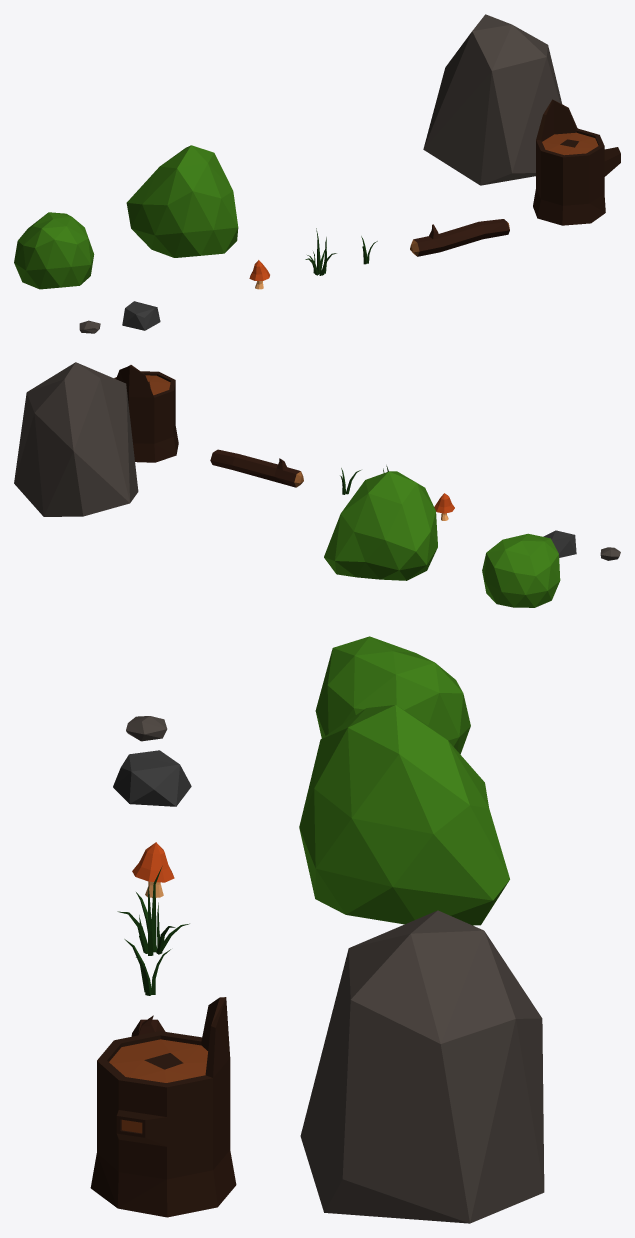
The model's file is NatureFreePack1.obj.
The picture shows the model from 3 angles, top to bottom: view 1: azimuth 30°, elevation 25°; view 2: azimuth 150°, elevation 25°; view 3: azimuth 270°, elevation 25°; orthographic projection. The views are drawn at different scales.
Visible parts, largest first — view 1: NaturePack Rock4, NaturePack Bush1, NaturePack Stump1, NaturePack Bush2, NaturePack Branch, NaturePack Rock3; view 2: NaturePack Rock4, NaturePack Bush1, NaturePack Bush2, NaturePack Stump1, NaturePack Branch, NaturePack Rock3; view 3: NaturePack Rock4, NaturePack Bush1, NaturePack Stump1, NaturePack Bush2, NaturePack Rock3, NaturePack Grass1, NaturePack Mushroom2, NaturePack Rock2.
Part boxes in pixels (x1,y1,x2,y2): NaturePack Rock4: (423, 14, 561, 185); NaturePack Bush1: (126, 145, 238, 257); NaturePack Stump1: (533, 99, 620, 225); NaturePack Bush2: (14, 212, 94, 289); NaturePack Branch: (410, 219, 509, 256); NaturePack Rock3: (122, 301, 160, 330); NaturePack Rock4: (14, 362, 138, 516); NaturePack Bush1: (324, 471, 437, 580); NaturePack Bush2: (482, 533, 560, 607); NaturePack Stump1: (114, 365, 178, 462); NaturePack Branch: (210, 449, 303, 487); NaturePack Rock3: (543, 530, 576, 557); NaturePack Rock4: (300, 910, 544, 1223); NaturePack Bush1: (299, 705, 509, 925); NaturePack Stump1: (90, 997, 236, 1217); NaturePack Bush2: (315, 636, 470, 754); NaturePack Rock3: (113, 750, 191, 806); NaturePack Grass1: (117, 866, 189, 955); NaturePack Mushroom2: (132, 842, 174, 897); NaturePack Rock2: (126, 716, 167, 741).
Bounding box in the file's own units: 15.22 × 3.77 × 5.7.
